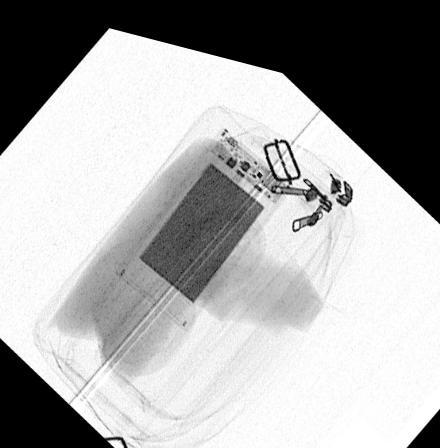Powerbank: (116, 112, 295, 321)
